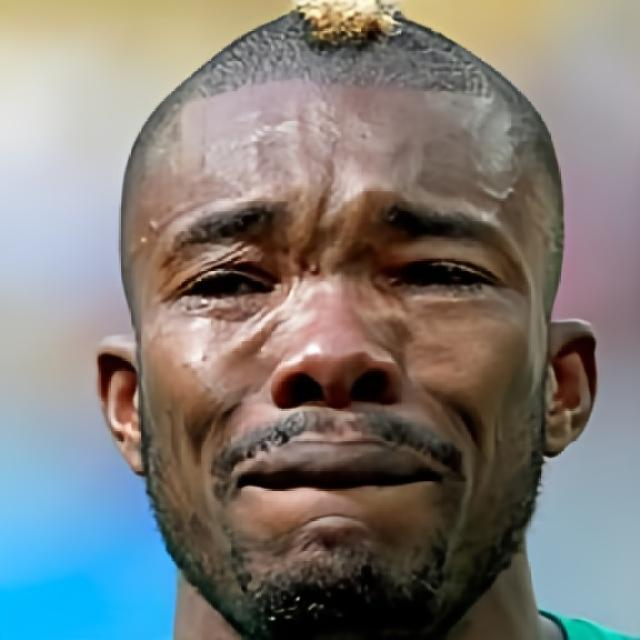sad: (138, 89, 542, 640)
